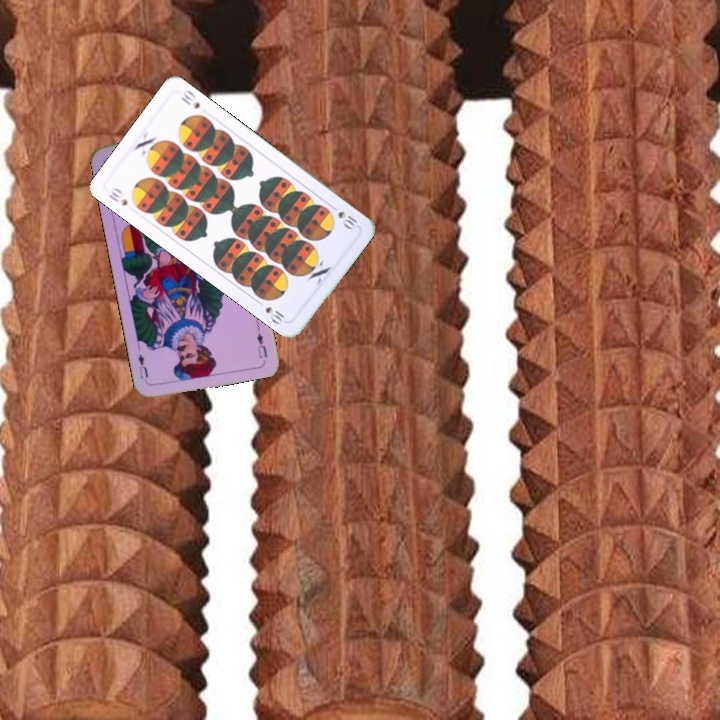EU: (253, 329, 270, 361)
S10: (326, 200, 360, 232), (104, 183, 130, 209)
